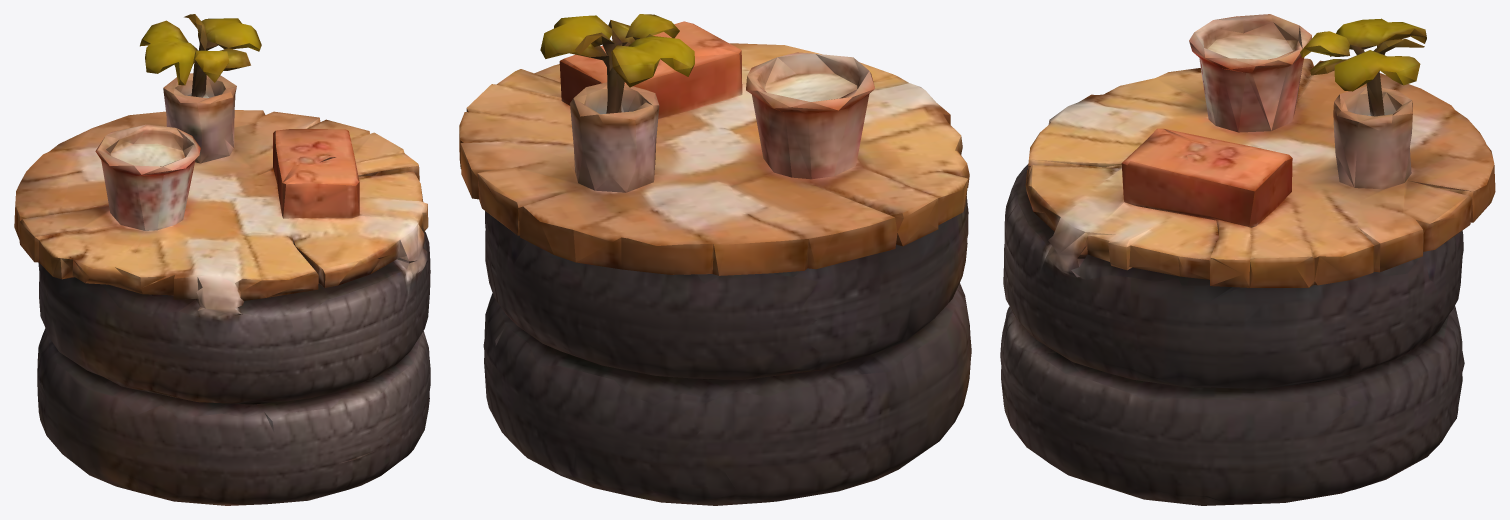
The model's file is misc06.glb.
3 views of the same model, side by side, from view 1: azimuth 30°, elevation 25°; view 2: azimuth 150°, elevation 25°; view 3: azimuth 270°, elevation 25° (orthographic). The views are drawn at different scales.
Size of the model in its own units: 0.2316 by 0.2142 by 0.2351.
1 material, 1 textured.
